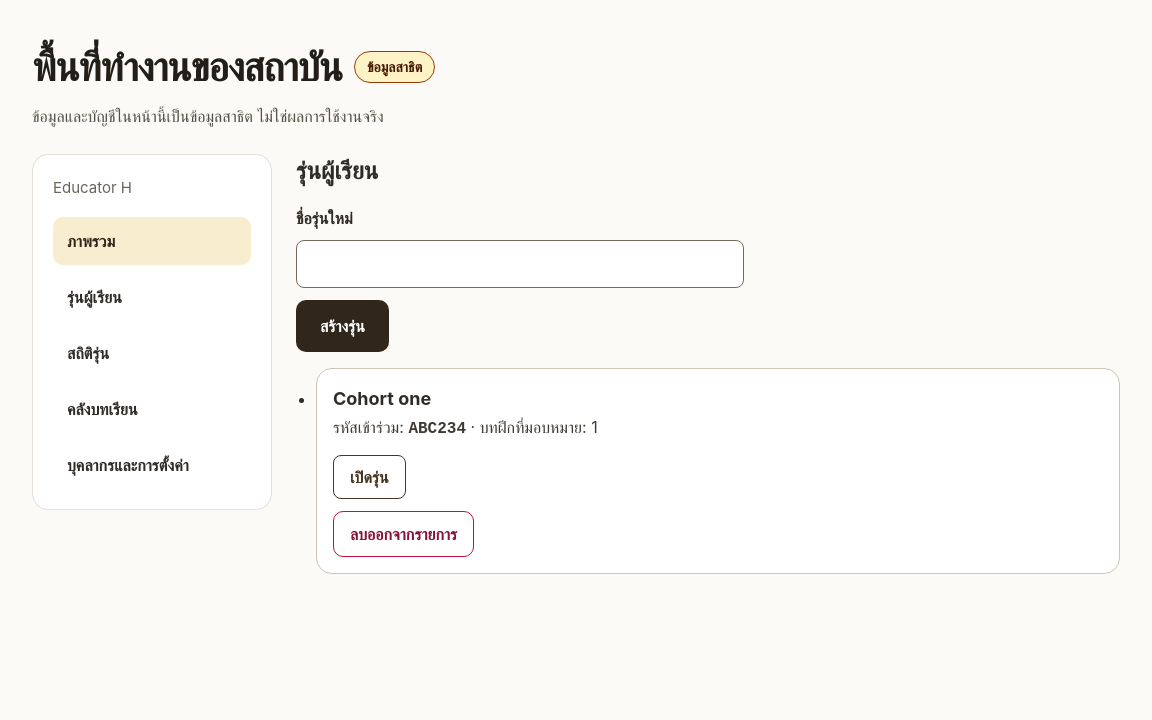
Test: S2 cohorts and assignments › creates a cohort and reloads the list
Expected: the navigation bar named "เมนูสถาบัน" is shown, [53,217,251,489]
Expected: the text "Cohort one" is shown, [333,388,431,409]
Type " New term " into the field labelled "ชื่อรุ่นใหม่". click: (520, 264)
box: [296,240,744,288]
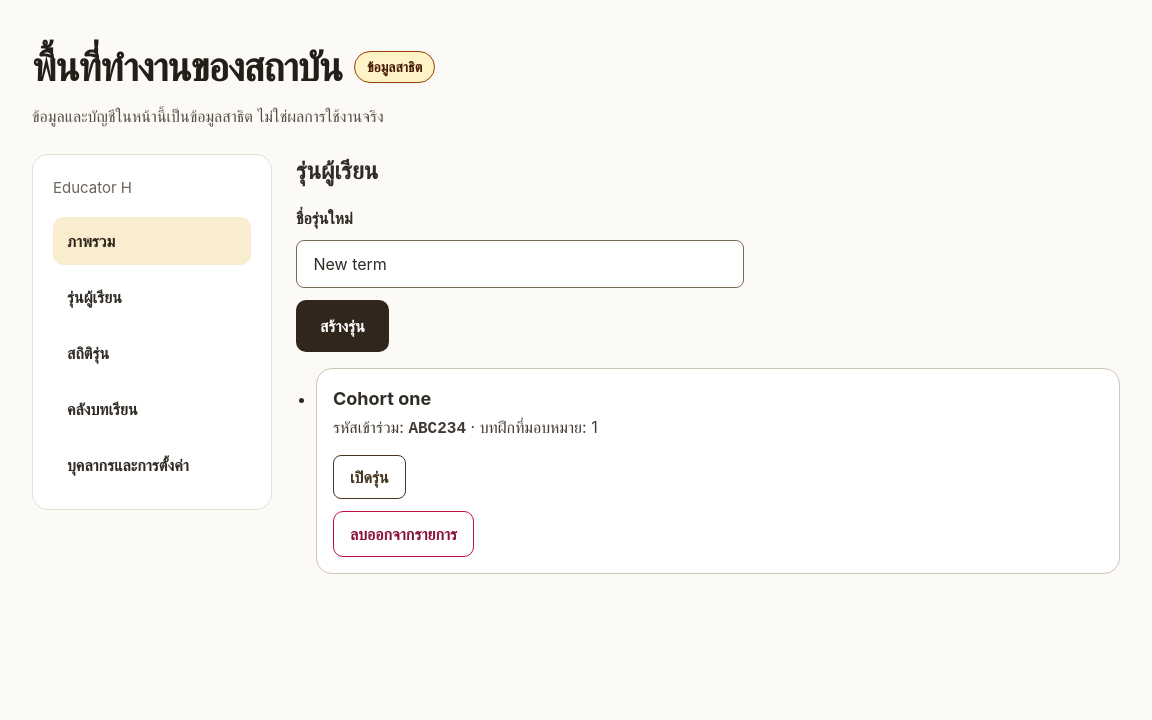
Click the button "สร้างรุ่น". click: (342, 326)
box: [296,300,389,352]
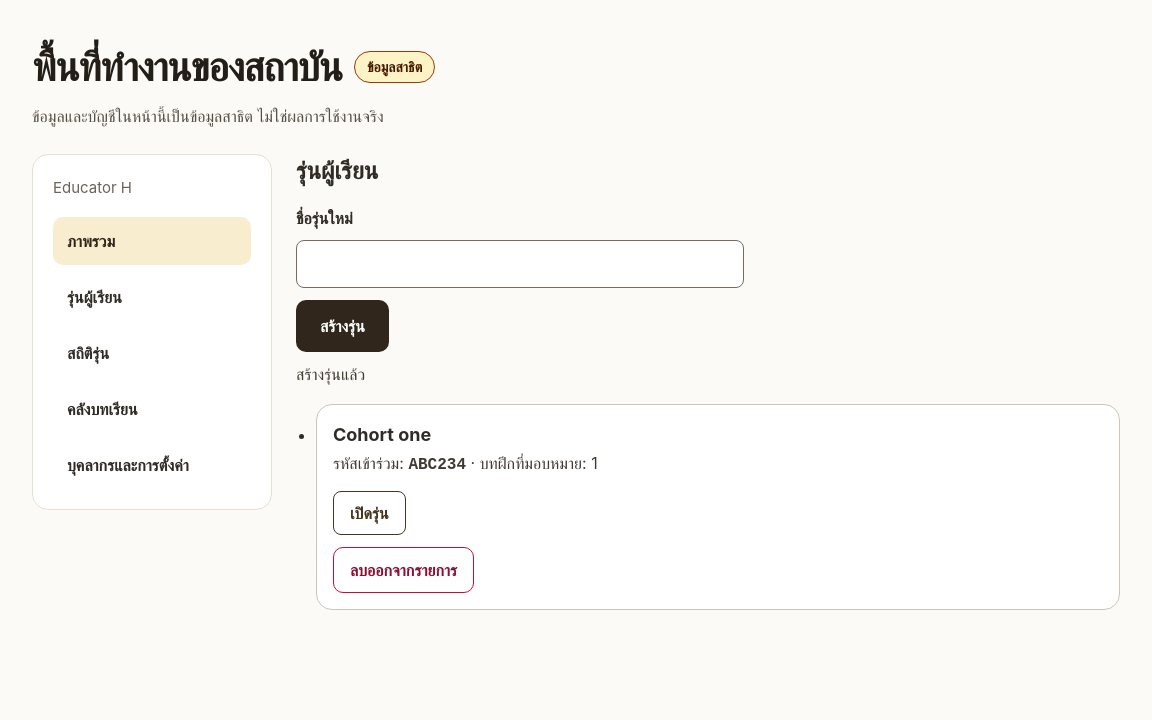
Now the text "สร้างรุ่นแล้ว" is shown, box [296,364,365,384]
